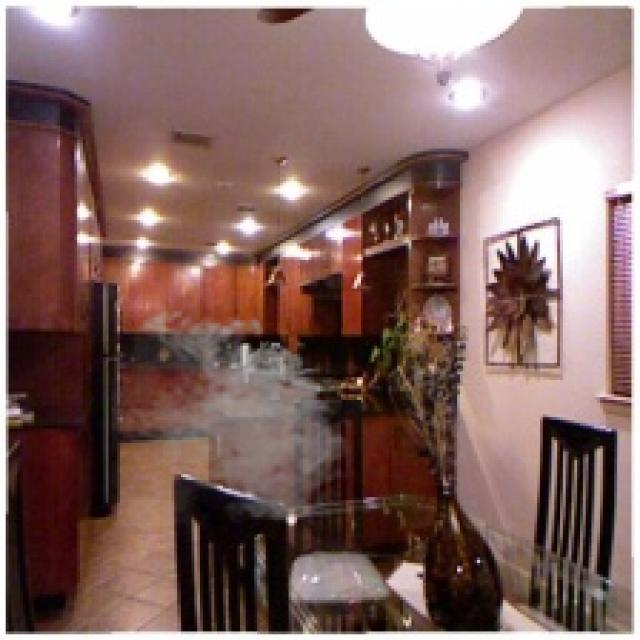Smoke: (111, 302, 358, 528)
